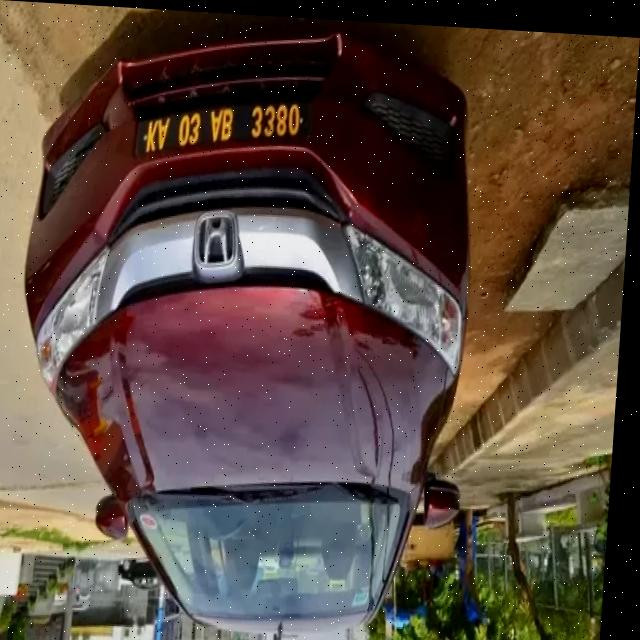plate: (134, 88, 310, 166)
